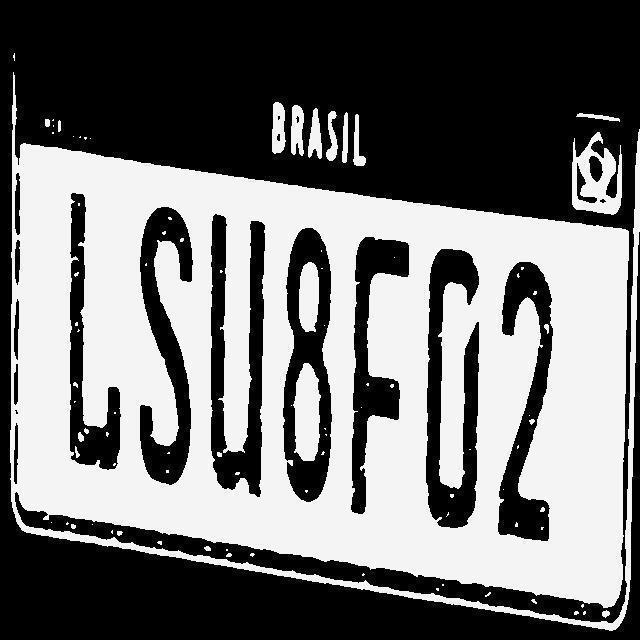0: (428, 244, 490, 536)
2: (496, 256, 556, 546)
8: (284, 224, 336, 506)
f: (346, 217, 408, 522)
l: (55, 184, 129, 483)
s: (128, 206, 192, 494)
u: (200, 208, 273, 516)
